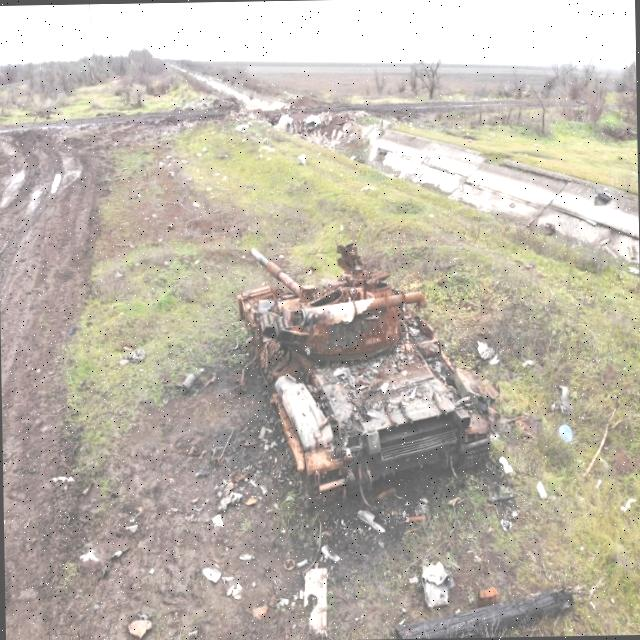Destroyed: (235, 237, 500, 496)
